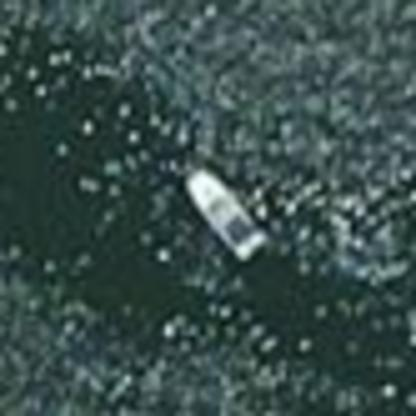ship: (176, 159, 278, 269)
